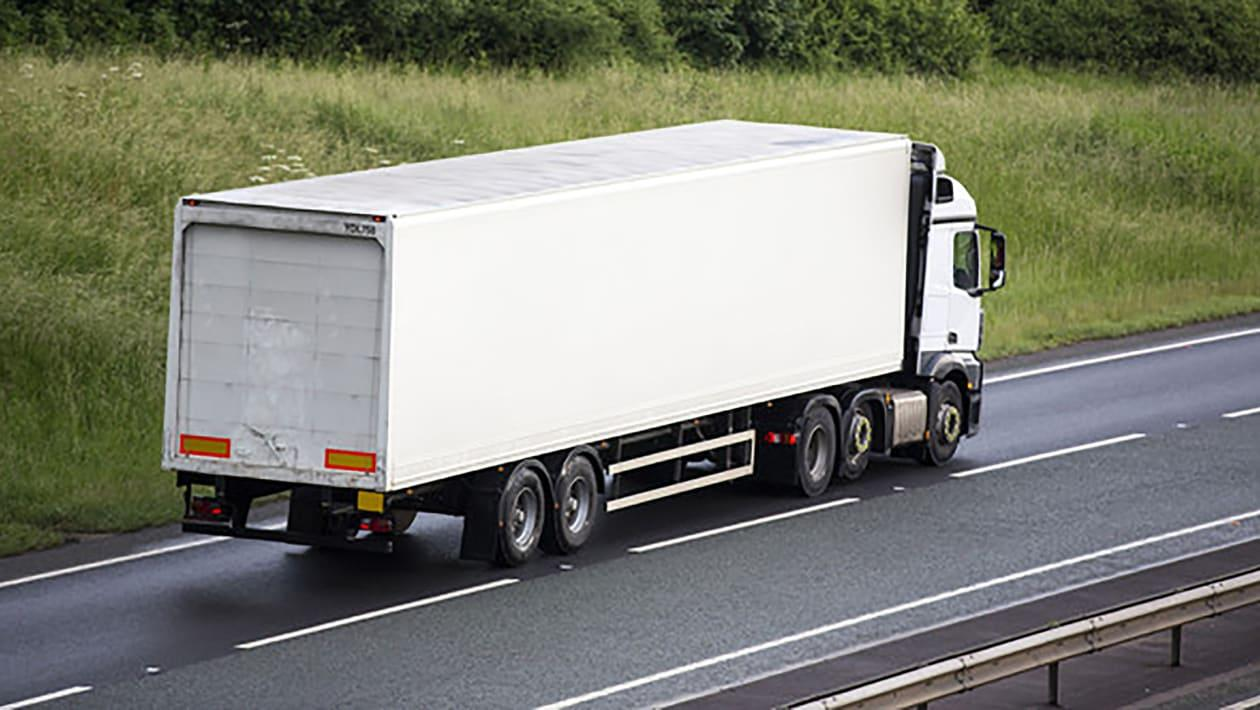truck: (160, 117, 1005, 569)
